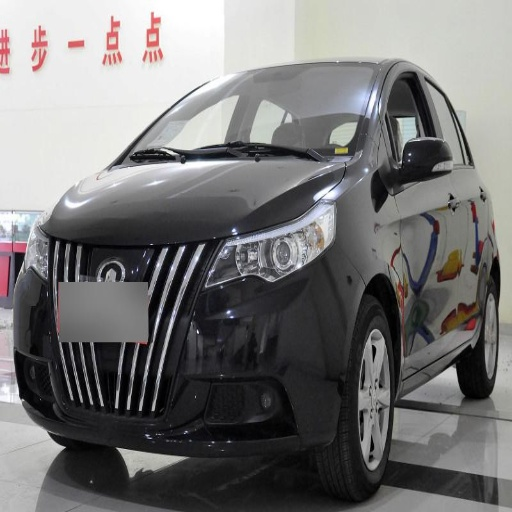front_bumper: (17, 236, 362, 446)
front_glass: (110, 66, 376, 167)
front_left_door: (378, 66, 460, 354)
